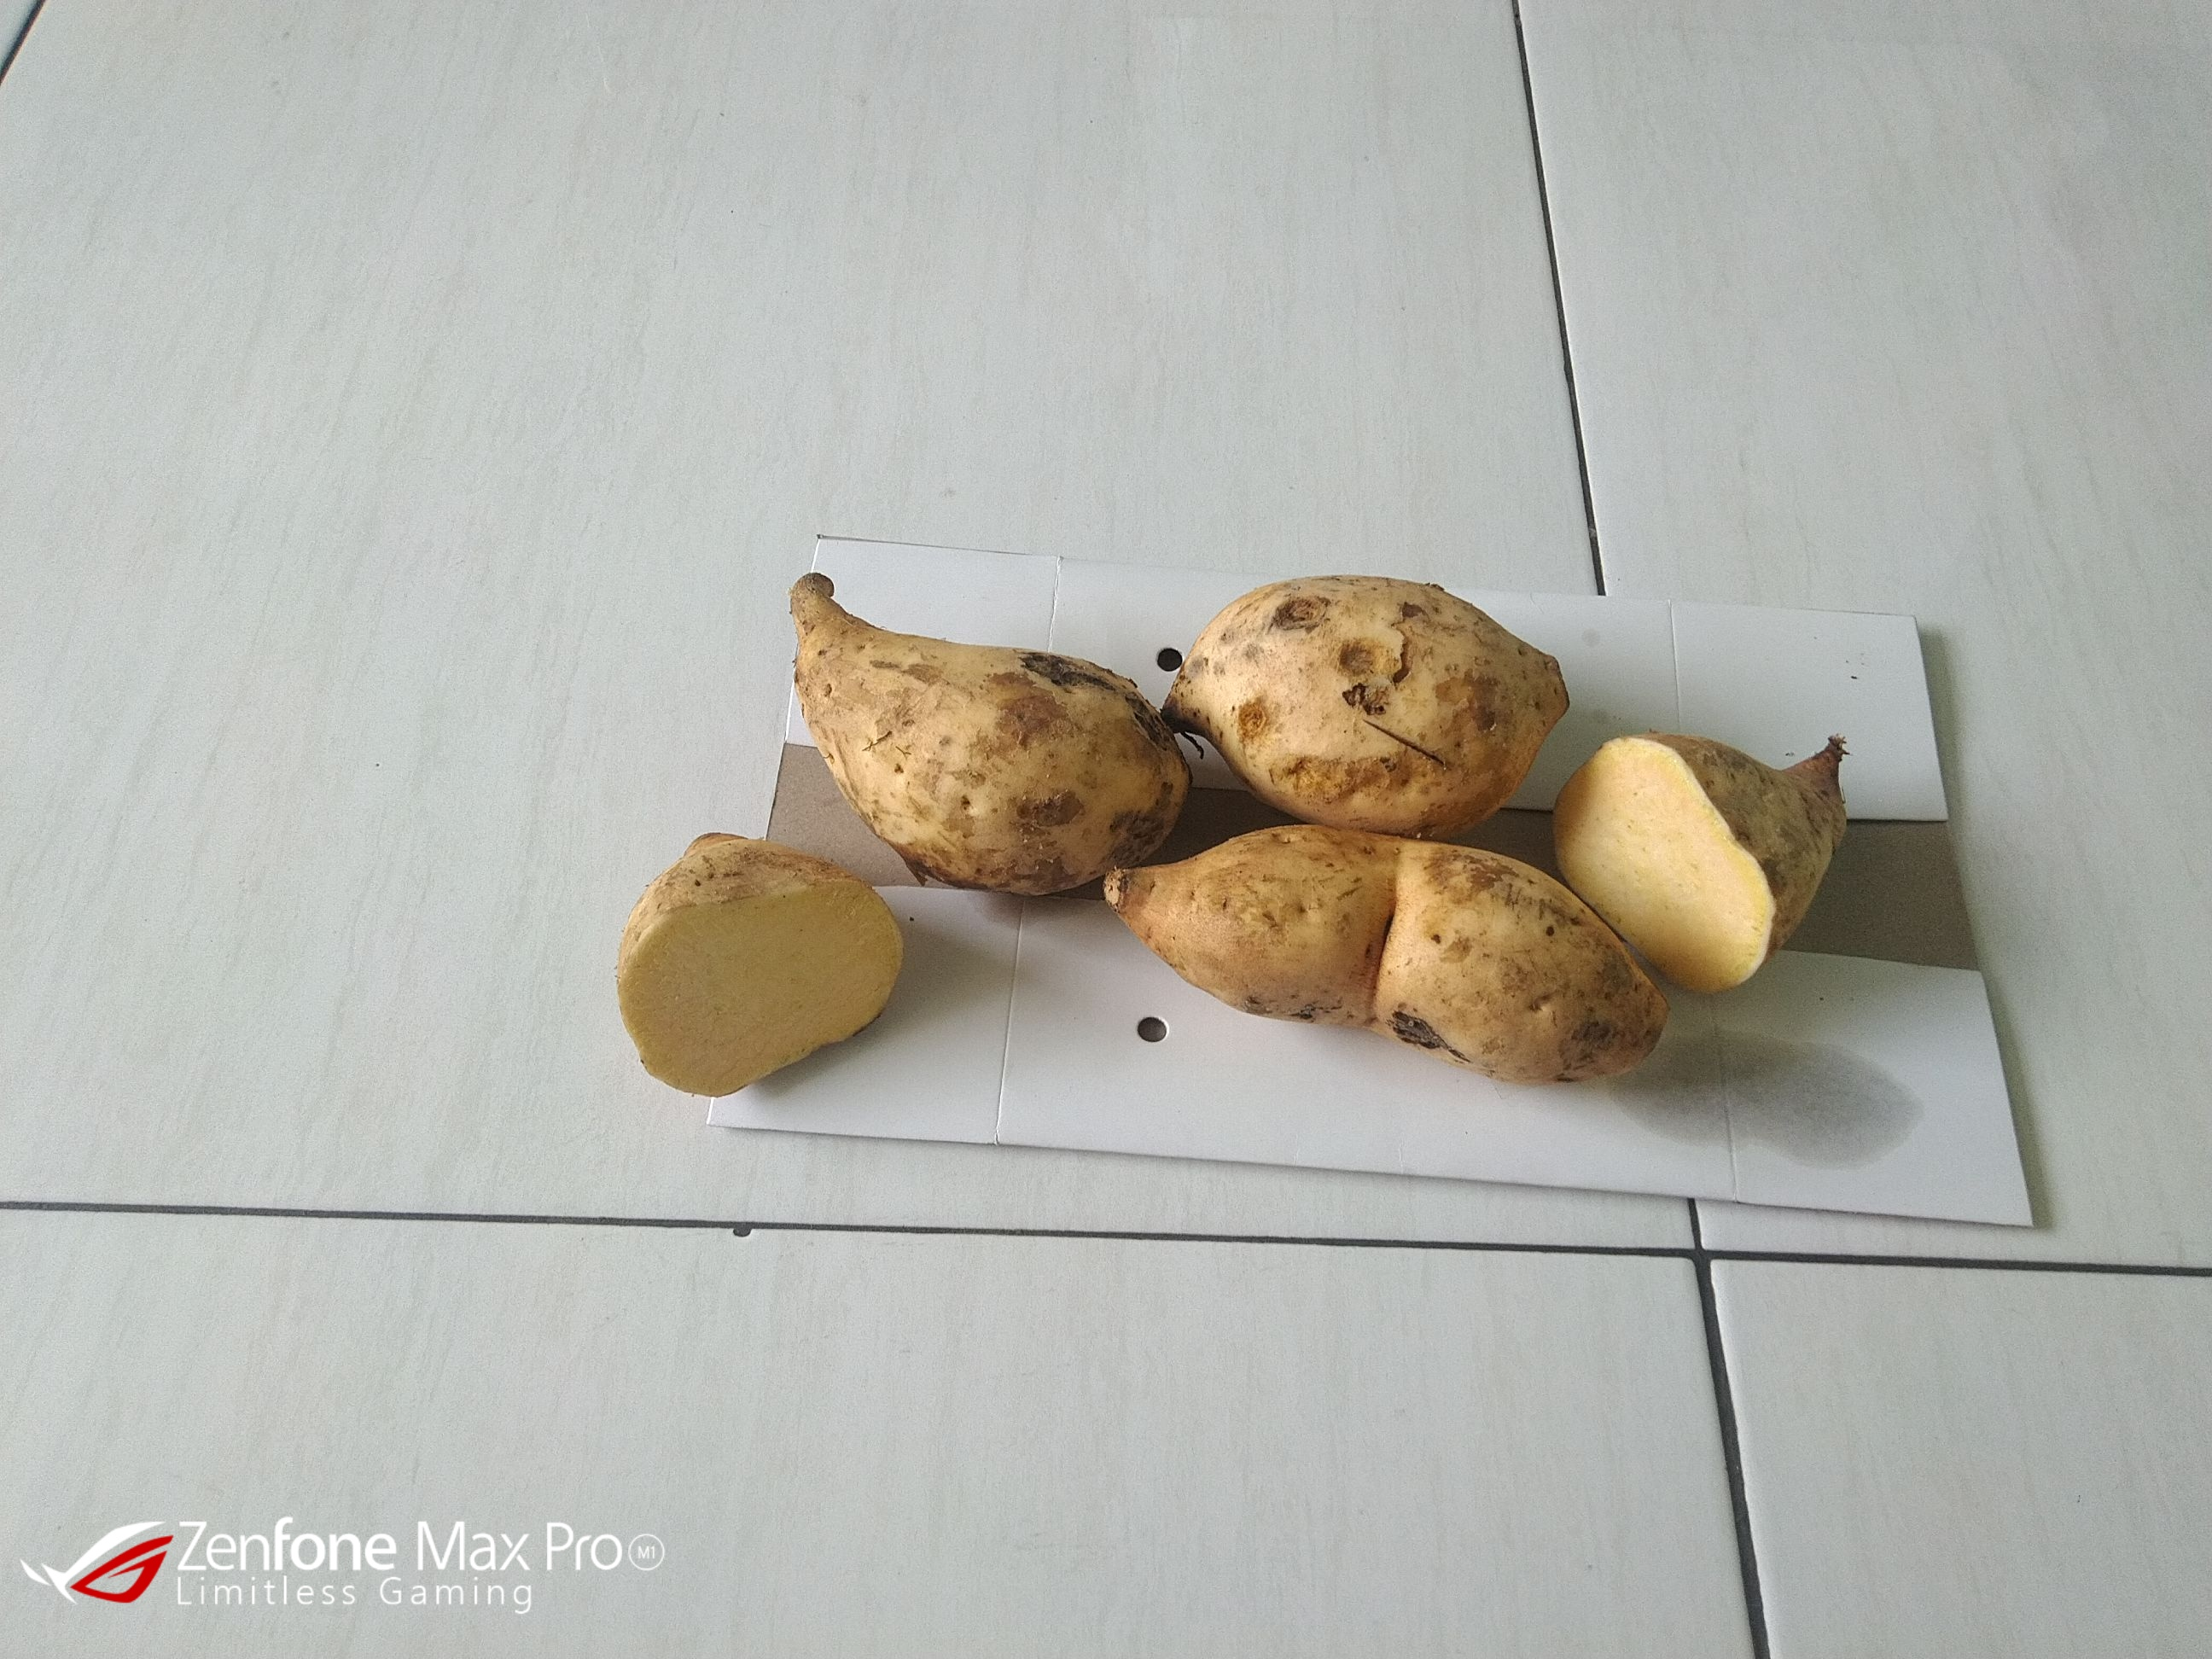ubi kuning: (1082, 823, 1677, 1094), (766, 570, 1193, 908), (1162, 563, 1568, 840), (1541, 716, 1907, 971), (610, 809, 911, 1108)
